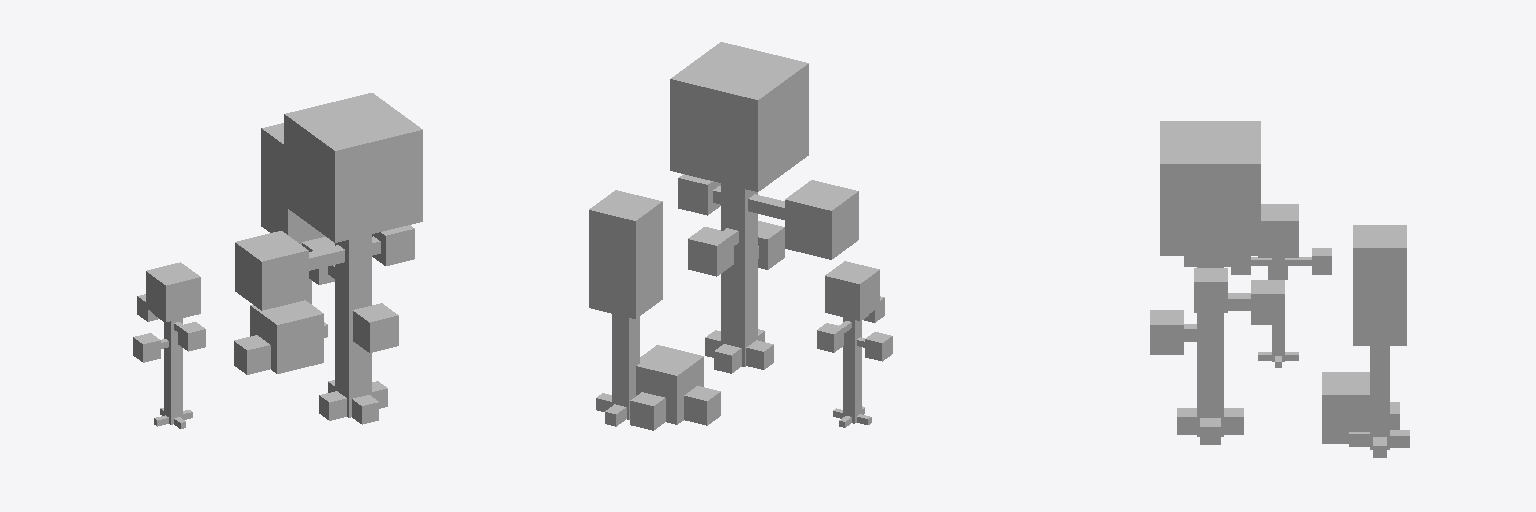
Rendered from Plants-2-Tree Group 1.obj.
The picture shows the model from 3 angles: view 1: azimuth 30°, elevation 25°; view 2: azimuth 150°, elevation 25°; view 3: azimuth 270°, elevation 25°; orthographic projection.
Visible parts, largest first — view 1: Tree Group 1; view 2: Tree Group 1; view 3: Tree Group 1.
Boxes of the visible parts, x1,y1,x2,y2 form: Tree Group 1: [133, 93, 422, 428]; Tree Group 1: [589, 42, 892, 430]; Tree Group 1: [1150, 121, 1409, 457].
Size of the model in its own units: 8.1 by 9.4 by 7.7.